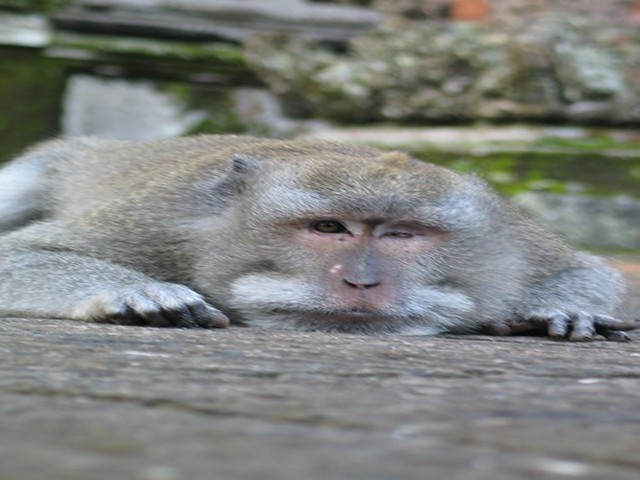Monkey: (2, 121, 637, 359)
